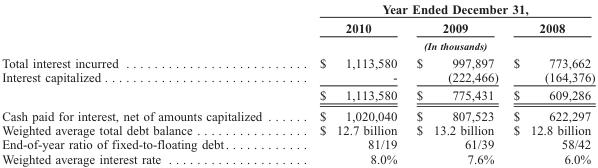table: (1, 1, 594, 165)
table column: (1, 1, 290, 165), (290, 1, 406, 165), (406, 1, 505, 165), (505, 1, 594, 165)
table column header: (1, 1, 594, 53)
table row: (1, 18, 594, 37), (1, 86, 594, 105), (1, 1, 594, 18), (1, 69, 594, 86), (1, 105, 594, 122), (1, 37, 594, 53), (1, 53, 594, 69), (1, 122, 594, 137), (1, 137, 594, 151), (1, 151, 594, 165)
table spanning cell: (290, 1, 594, 18), (290, 37, 594, 53)
